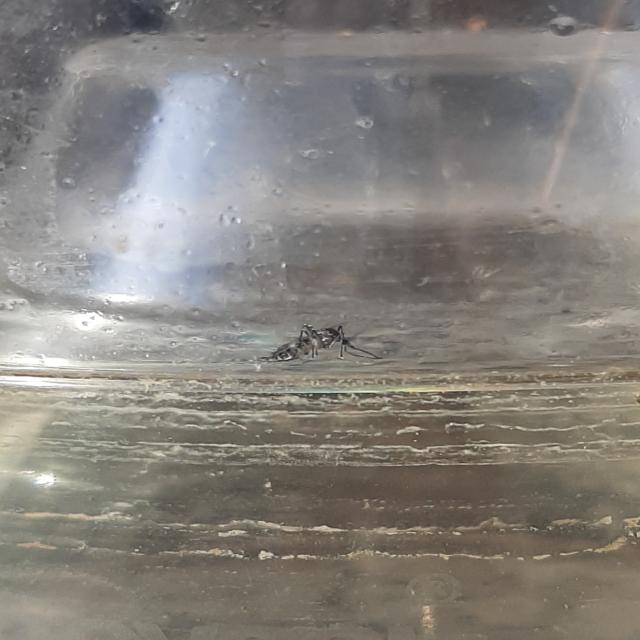albopictus: (255, 314, 389, 368)
